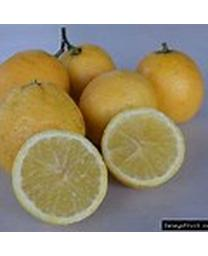lemon: (13, 129, 108, 224), (0, 80, 84, 174), (103, 106, 187, 190), (79, 68, 158, 141), (138, 51, 204, 124)
